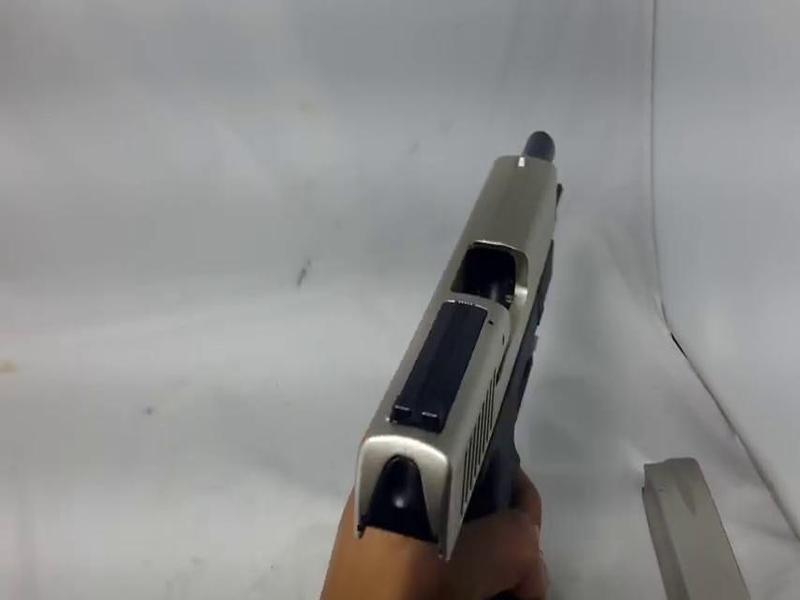Pistola: (295, 112, 608, 600)
